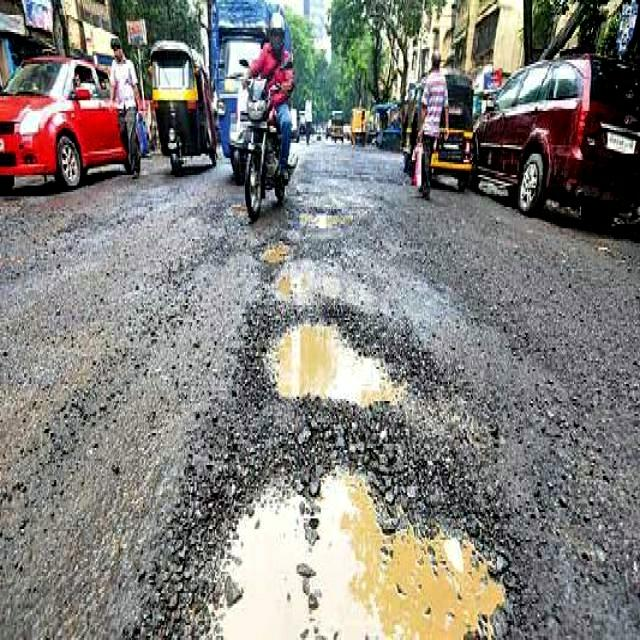Pothole: (152, 427, 534, 634), (241, 301, 421, 401), (270, 258, 316, 299), (256, 228, 295, 267), (297, 203, 347, 233)
